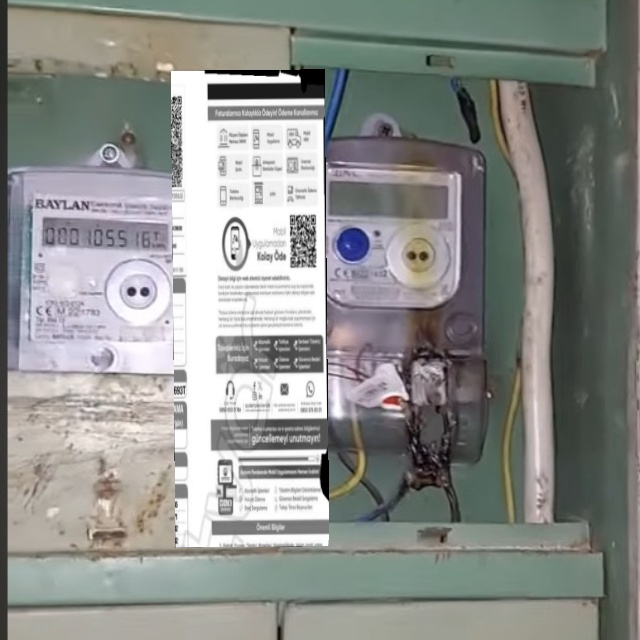electricity-bill: (171, 69, 329, 547)
